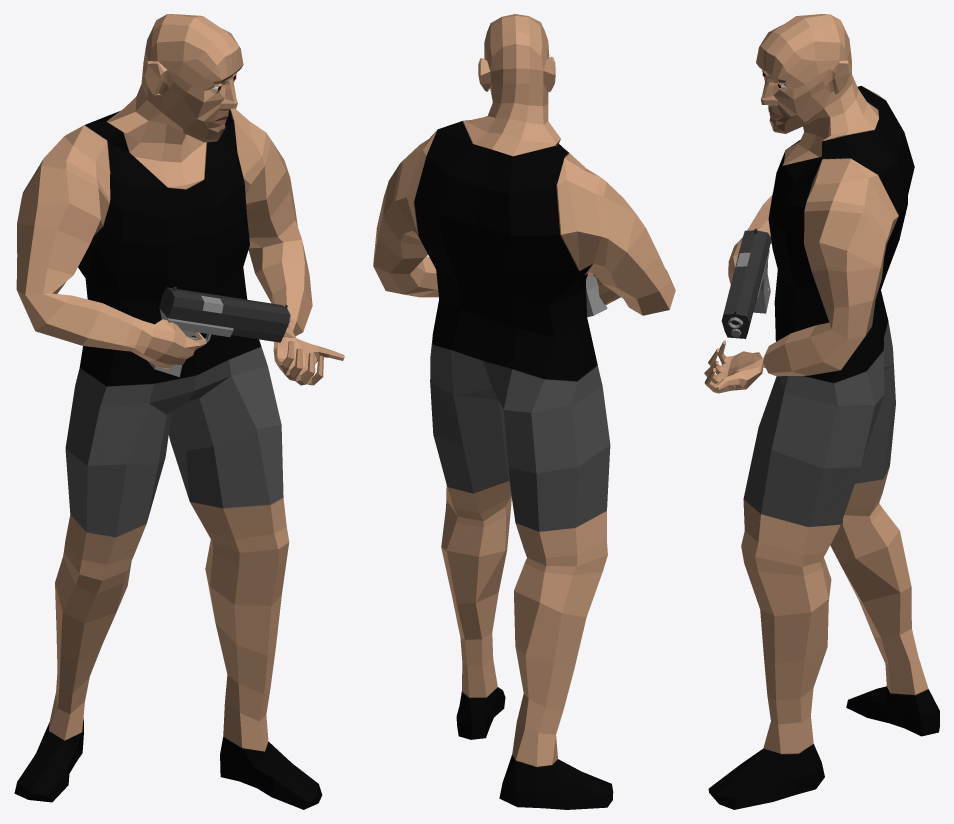
The model's file is PlayerIdle(168).obj.
3 renders of one model, left to right at view 1: azimuth 30°, elevation 25°; view 2: azimuth 150°, elevation 25°; view 3: azimuth 270°, elevation 25°, orthographic. The views are drawn at different scales.
Visible parts, largest first — view 1: Plane002, Box003; view 2: Plane002, Box003; view 3: Plane002, Box003.
Part boxes in pixels (bbox=[...]): Plane002: bbox=[14, 14, 344, 809]; Box003: bbox=[147, 286, 290, 376]; Plane002: bbox=[373, 14, 675, 809]; Box003: bbox=[586, 274, 607, 317]; Plane002: bbox=[704, 14, 939, 809]; Box003: bbox=[721, 228, 771, 338].
Size of the model in its own units: 716 by 1797 by 513.
